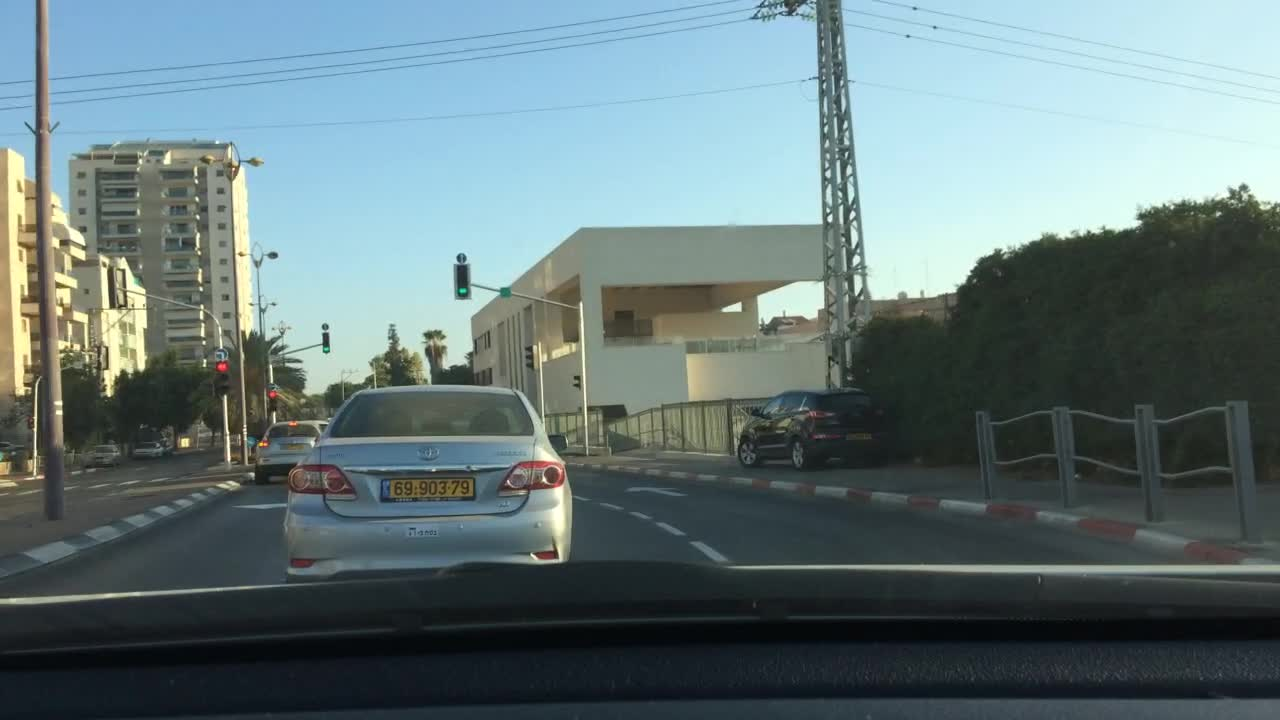car: (278, 381, 576, 584), (733, 387, 899, 469), (251, 416, 340, 485), (83, 440, 125, 470), (0, 431, 35, 463), (131, 439, 167, 458), (153, 439, 174, 458)
traffic light: (210, 358, 234, 396), (451, 262, 472, 301), (523, 339, 538, 372), (266, 385, 282, 412), (321, 328, 333, 355), (570, 369, 582, 393)
traffic sign: (269, 352, 285, 369), (212, 345, 227, 363), (498, 283, 514, 297), (266, 375, 278, 391), (456, 252, 468, 265), (245, 433, 255, 448), (319, 319, 330, 331)
